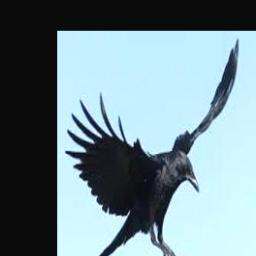Crow: (65, 38, 240, 256)
